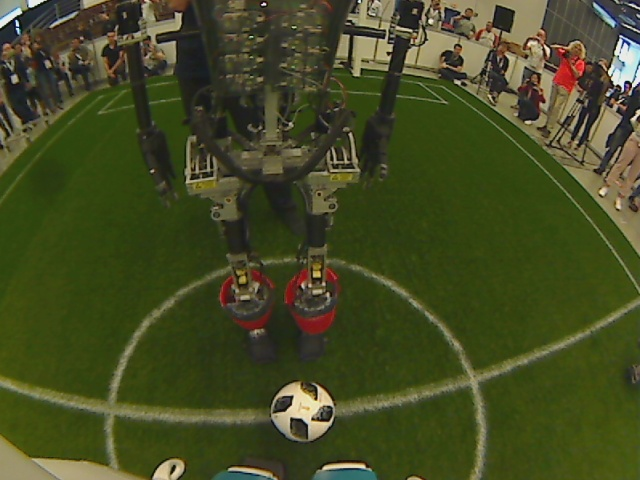ball: (269, 377, 338, 446)
